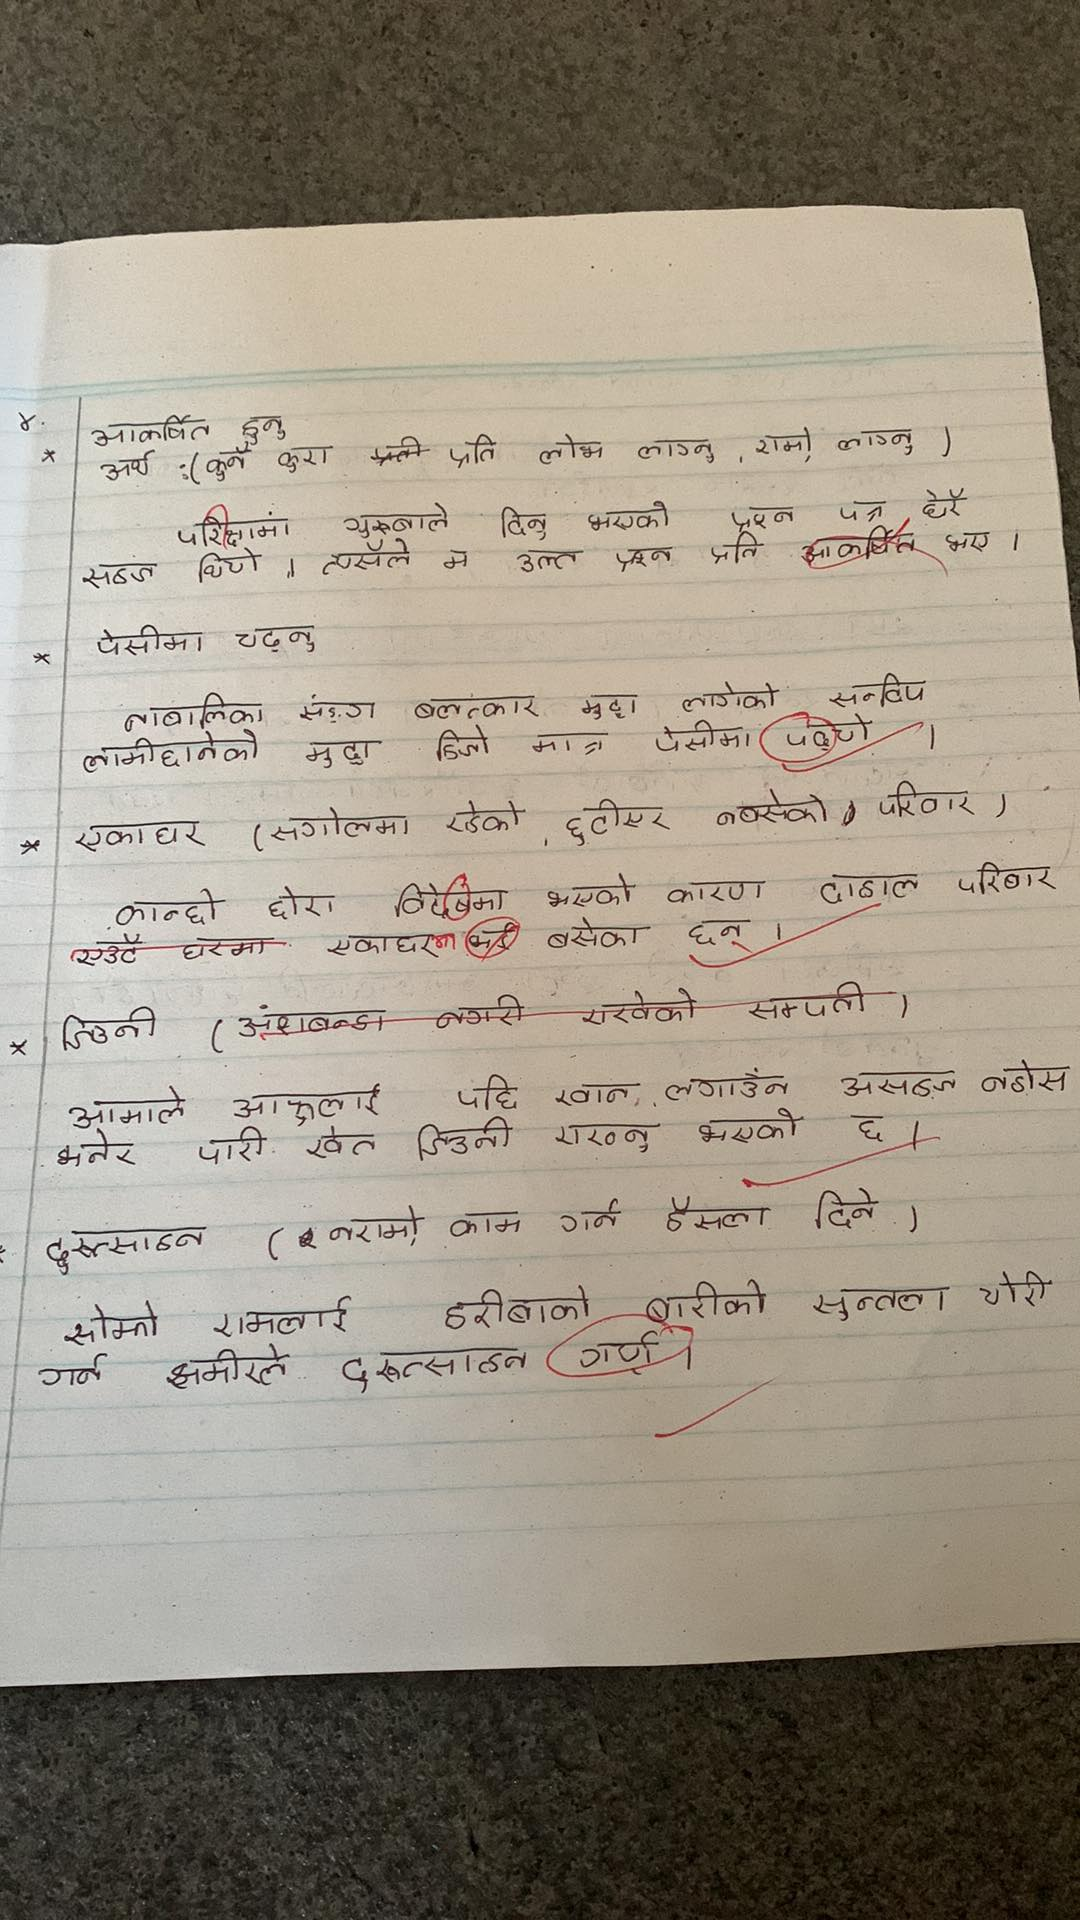text: (339, 1342, 531, 1395), (40, 1221, 208, 1275), (208, 1288, 352, 1345), (435, 1284, 597, 1335), (76, 735, 266, 773), (164, 1344, 295, 1396), (227, 1081, 380, 1124), (640, 1279, 771, 1328), (808, 1283, 949, 1328), (119, 692, 272, 733), (61, 1083, 189, 1131), (713, 785, 832, 836), (269, 804, 413, 847), (560, 795, 673, 849), (175, 500, 293, 549), (55, 1298, 164, 1348), (413, 1116, 517, 1167), (59, 1001, 160, 1054), (111, 887, 222, 934), (692, 1102, 803, 1149), (74, 816, 208, 853), (338, 498, 455, 539), (384, 880, 504, 919), (320, 1203, 423, 1249), (659, 1195, 771, 1237), (665, 1068, 795, 1104), (825, 671, 931, 715), (876, 779, 977, 824), (547, 1120, 655, 1160), (91, 413, 212, 448), (676, 676, 785, 716), (816, 868, 920, 909), (840, 1067, 964, 1101), (411, 694, 545, 725), (323, 928, 462, 959), (92, 624, 204, 661), (957, 857, 1059, 897), (313, 541, 415, 579), (973, 1265, 1051, 1315), (549, 913, 640, 955), (539, 873, 636, 913), (973, 1059, 1068, 1097), (229, 620, 320, 659), (171, 934, 272, 969), (440, 796, 525, 839), (568, 1335, 659, 1373), (55, 1131, 137, 1174), (665, 876, 767, 909), (687, 913, 765, 956), (582, 498, 673, 535), (651, 720, 752, 753), (301, 1124, 381, 1164), (835, 423, 923, 460), (812, 1184, 884, 1229), (297, 688, 378, 727), (191, 1127, 268, 1168), (32, 1352, 108, 1393), (553, 1080, 640, 1116), (265, 881, 338, 923), (636, 433, 720, 468), (749, 425, 815, 469), (525, 729, 611, 764), (456, 1069, 524, 1113), (575, 687, 644, 729), (556, 1196, 622, 1240), (76, 556, 160, 591), (305, 733, 375, 773), (71, 934, 142, 972), (512, 541, 582, 578), (444, 1209, 529, 1240), (196, 549, 268, 584), (611, 539, 679, 575), (493, 504, 553, 545), (723, 504, 799, 535), (537, 435, 607, 468), (436, 727, 491, 767), (708, 531, 767, 568), (916, 485, 972, 524), (96, 448, 156, 484), (940, 525, 1000, 560), (276, 439, 328, 473), (448, 433, 495, 471), (835, 495, 887, 527), (851, 1109, 891, 1149), (239, 411, 287, 443), (208, 447, 245, 481), (440, 543, 476, 578), (13, 407, 40, 433)
